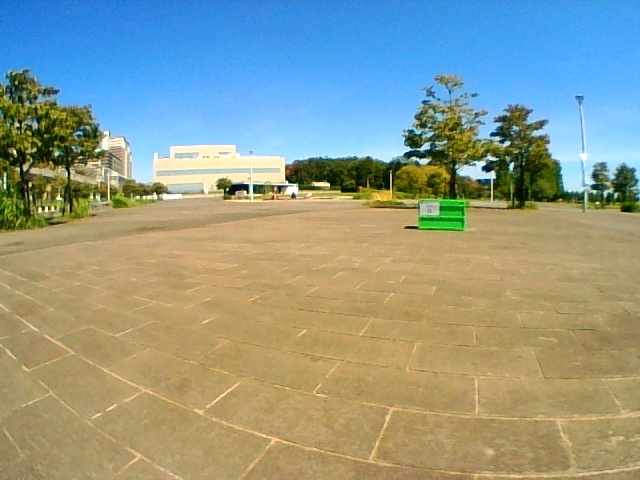green_box: (418, 198, 463, 229)
tag: (421, 203, 438, 215)
